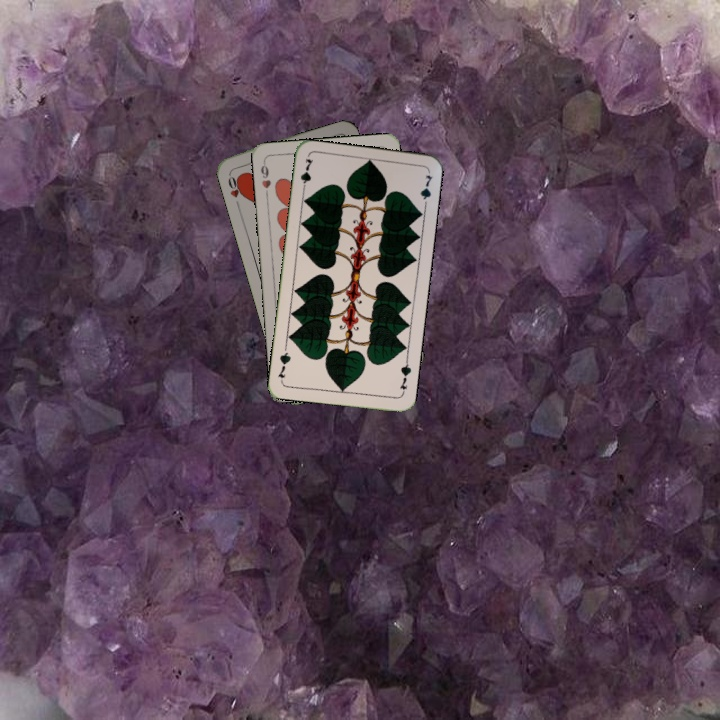G7: (296, 154, 315, 195), (396, 356, 414, 396)
H9: (257, 158, 273, 198)
HO: (224, 169, 247, 209)
